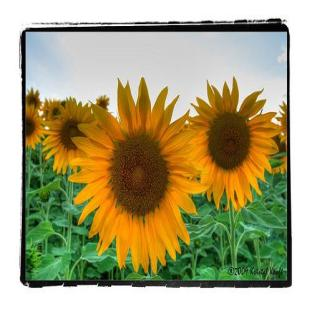sunflower: (67, 78, 208, 275), (190, 77, 285, 270)
